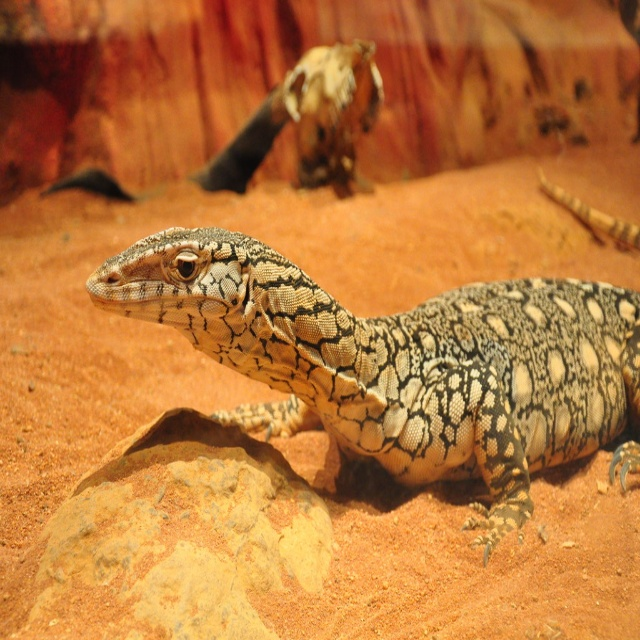Lizard: (86, 166, 640, 569)
